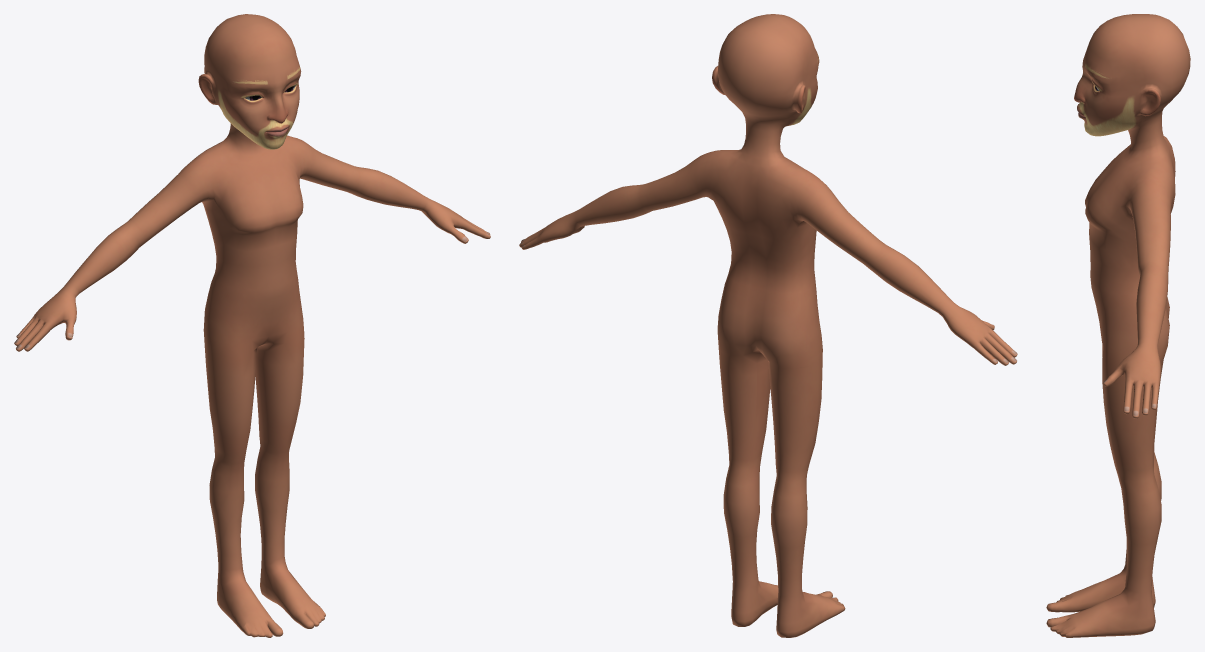
Rendered from frame_0096.glb.
3 views of the same model, side by side, from view 1: azimuth 30°, elevation 25°; view 2: azimuth 150°, elevation 25°; view 3: azimuth 270°, elevation 25° (orthographic). The views are drawn at different scales.
Parts seen in each view (by area): view 1: frame_0096_head_geo; view 2: frame_0096_head_geo; view 3: frame_0096_head_geo.
Part boxes in pixels (x1=…): frame_0096_head_geo: x1=14, y1=14, x2=490, y2=637; frame_0096_head_geo: x1=519, y1=14, x2=1017, y2=637; frame_0096_head_geo: x1=1046, y1=14, x2=1190, y2=637.
Size of the model in its own units: 1.28 by 1.5 by 0.3253.
3 materials, 3 textured.
